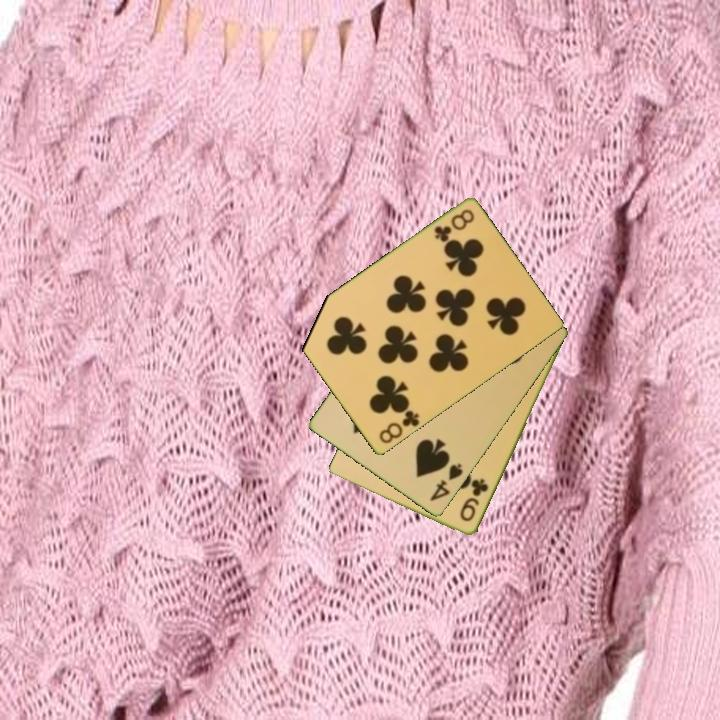4s: (426, 460, 466, 505)
8c: (375, 404, 422, 447), (430, 206, 477, 246)
9c: (456, 475, 491, 525)
